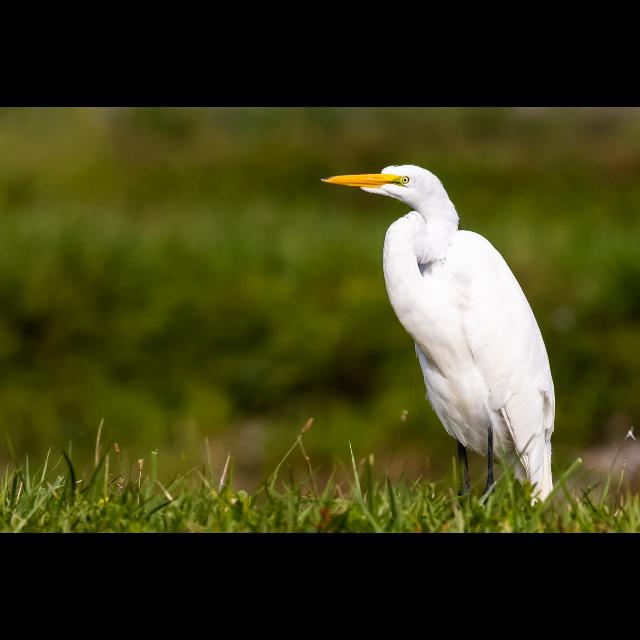egret: (320, 162, 554, 502)
